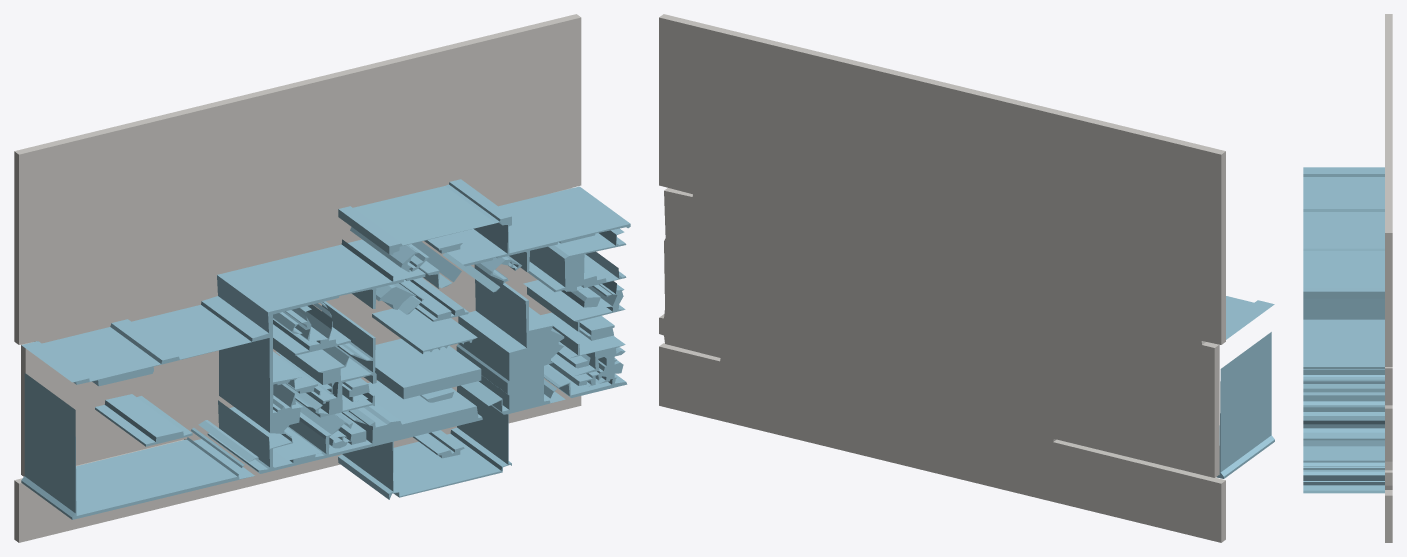
3 views of the same model, side by side, from view 1: azimuth 30°, elevation 25°; view 2: azimuth 150°, elevation 25°; view 3: azimuth 270°, elevation 25° (orthographic). The views are drawn at different scales.
Visible parts, largest first — view 1: world; view 2: world; view 3: world.
Boxes of the visible parts, x1,y1,x2,y2 form: world: (14,14,630,542); world: (659,14,1274,542); world: (1303,14,1392,542).
Bounding box in the file's own units: 10.23 × 6.75 × 1.76.
